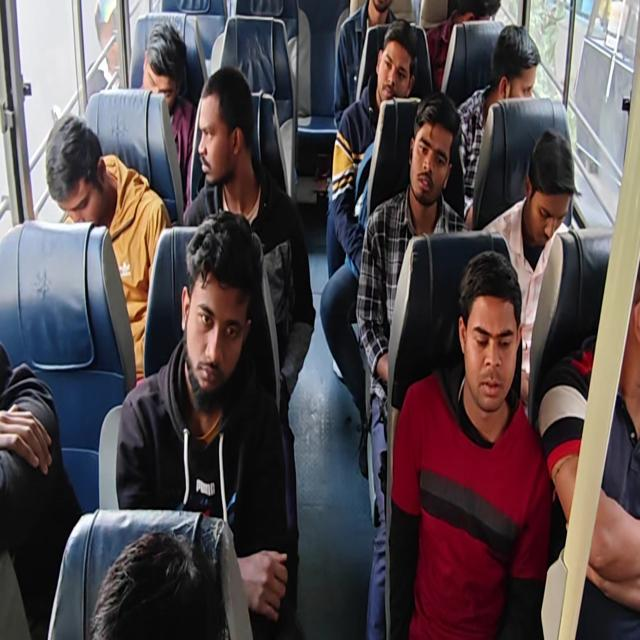person: (2, 2, 638, 638), (181, 65, 316, 631), (115, 209, 291, 637), (386, 249, 553, 638), (355, 90, 469, 638), (320, 18, 418, 476), (537, 261, 639, 638), (45, 113, 171, 383), (480, 128, 579, 413), (0, 340, 82, 638), (454, 24, 540, 228), (88, 529, 228, 639), (138, 22, 198, 209), (332, 0, 398, 129), (425, 0, 501, 92), (85, 0, 121, 98)
